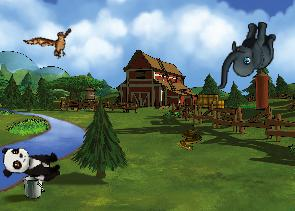eagle: (23, 15, 81, 70)
elephant: (217, 19, 276, 91)
panda: (0, 145, 62, 182)
